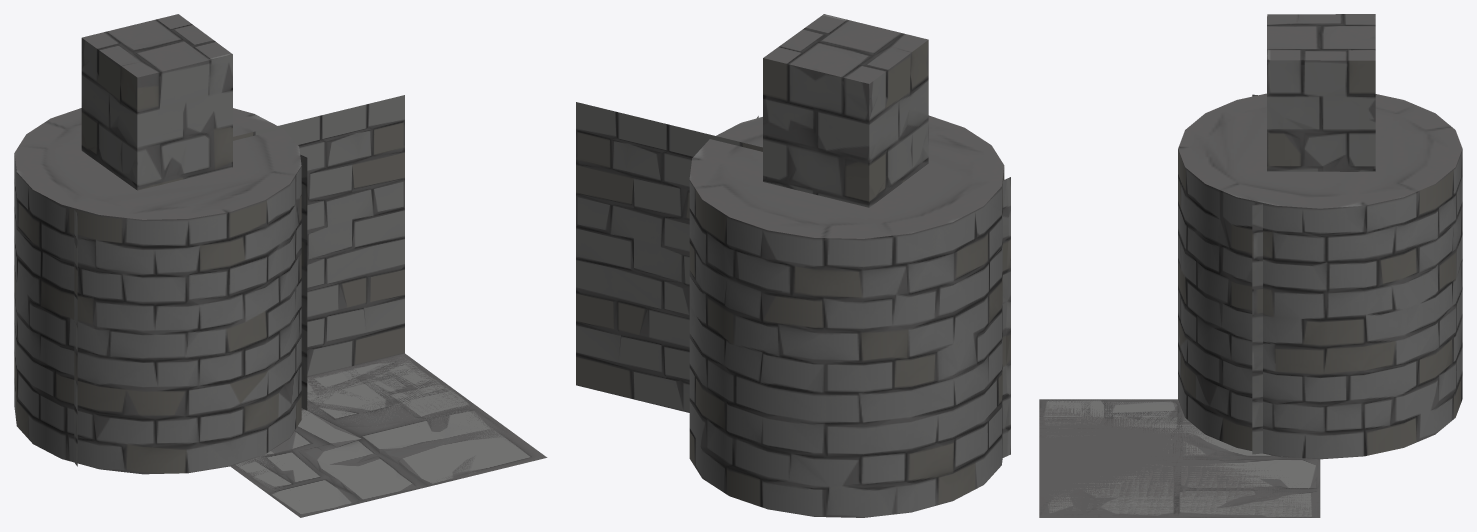
The picture shows the model from 3 angles, left to right: view 1: azimuth 30°, elevation 25°; view 2: azimuth 150°, elevation 25°; view 3: azimuth 270°, elevation 25°; orthographic projection. The views are drawn at different scales.
Visible parts, largest first — view 1: SM_Env_Wall_Round_01_Texture, SM_Env_Wall_01_Alt_Texture, SM_Env_Tiles_Texture_02, SM_Env_Wall_Pillar_Large_01_Texture, SM_Env_Tiles_Texture_01, SM_Env_Tiles_Texture_06, SM_Env_Wall_Alcove_Round_01_Texture, SM_Env_Tiles_Texture_08; view 2: SM_Env_Wall_Round_01_Texture, SM_Env_Wall_01_Alt_Texture, SM_Env_Wall_Pillar_Large_01_Texture, SM_Env_Wall_Alcove_Round_01_Texture; view 3: SM_Env_Wall_Round_01_Texture, SM_Env_Tiles_Texture_09, SM_Env_Wall_Pillar_Large_01_Texture, SM_Env_Tiles_Texture_03, SM_Env_Tiles_Texture_02, SM_Env_Tiles_Texture_05, SM_Env_Wall_Alcove_Round_01_Texture, SM_Env_Tiles_Texture_06.
Part boxes in pixels (x1,y1,x2,y2): SM_Env_Wall_Round_01_Texture: (14,108,301,474); SM_Env_Wall_01_Alt_Texture: (233,95,404,376); SM_Env_Tiles_Texture_02: (233,355,513,517); SM_Env_Wall_Pillar_Large_01_Texture: (81,14,232,190); SM_Env_Tiles_Texture_01: (302,353,502,432); SM_Env_Tiles_Texture_06: (230,353,490,493); SM_Env_Wall_Alcove_Round_01_Texture: (74,154,307,466); SM_Env_Tiles_Texture_08: (437,414,547,481); SM_Env_Wall_Round_01_Texture: (689,115,1004,517); SM_Env_Wall_01_Alt_Texture: (576,102,762,412); SM_Env_Wall_Pillar_Large_01_Texture: (763,14,928,207); SM_Env_Wall_Alcove_Round_01_Texture: (757,116,1010,457); SM_Env_Wall_Round_01_Texture: (1178,93,1462,459); SM_Env_Tiles_Texture_09: (1039,400,1320,517); SM_Env_Wall_Pillar_Large_01_Texture: (1267,14,1375,171); SM_Env_Tiles_Texture_03: (1039,425,1320,517); SM_Env_Tiles_Texture_02: (1039,399,1208,437); SM_Env_Tiles_Texture_05: (1039,399,1201,435); SM_Env_Wall_Alcove_Round_01_Texture: (1252,94,1262,454); SM_Env_Tiles_Texture_06: (1039,497,1320,517).
Bounding box in the file's own units: 753 × 753 × 711.
